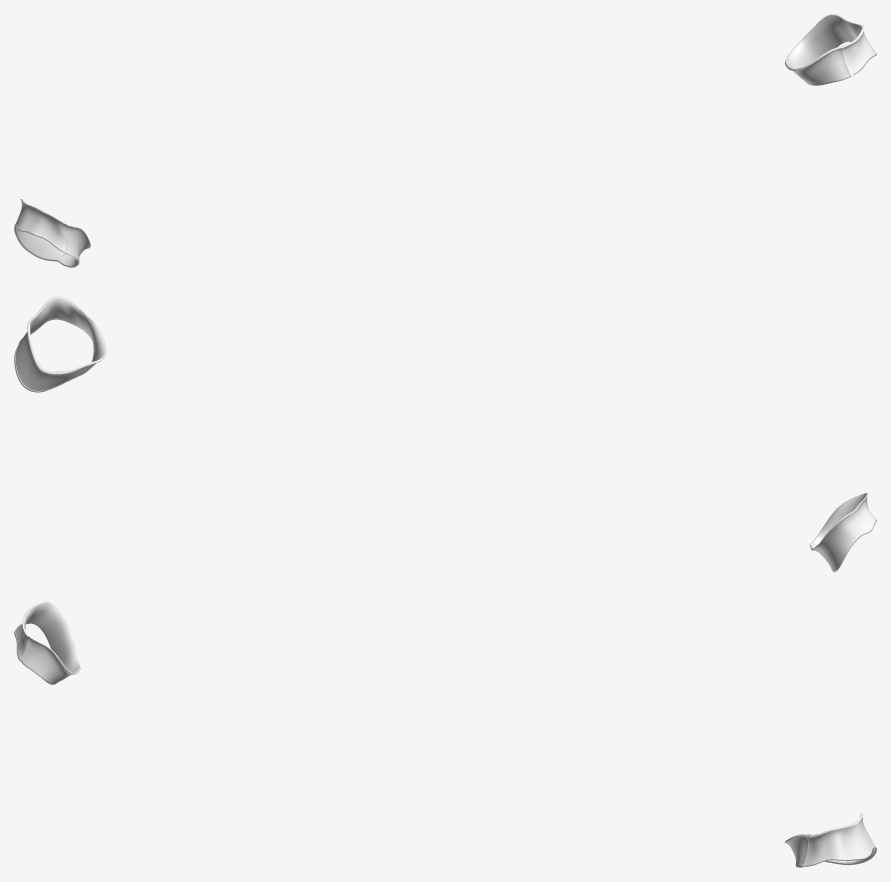
File: Jac_Rukav_V2.glb
3 views of the same model, one above another, from view 1: azimuth 30°, elevation 25°; view 2: azimuth 150°, elevation 25°; view 3: azimuth 330°, elevation 25° (orthographic).
Visible parts, largest first — view 1: Jac_Rukav_V2.001, Jac_Rope_Rukav_V2.001; view 2: Jac_Rukav_V2.001, Jac_Rope_Rukav_V2.001; view 3: Jac_Rukav_V2.001, Jac_Rope_Rukav_V2.001.
Part boxes in pixels (x1,y1,x2,y2): Jac_Rukav_V2.001: (14,14,876,267); Jac_Rope_Rukav_V2.001: (15,15,876,259); Jac_Rukav_V2.001: (14,296,876,572); Jac_Rope_Rukav_V2.001: (14,297,876,571); Jac_Rukav_V2.001: (14,601,876,867); Jac_Rope_Rukav_V2.001: (14,602,876,866).
Size of the model in its own units: 1.54 by 0.1263 by 0.1556.
2 materials, 2 textured.
